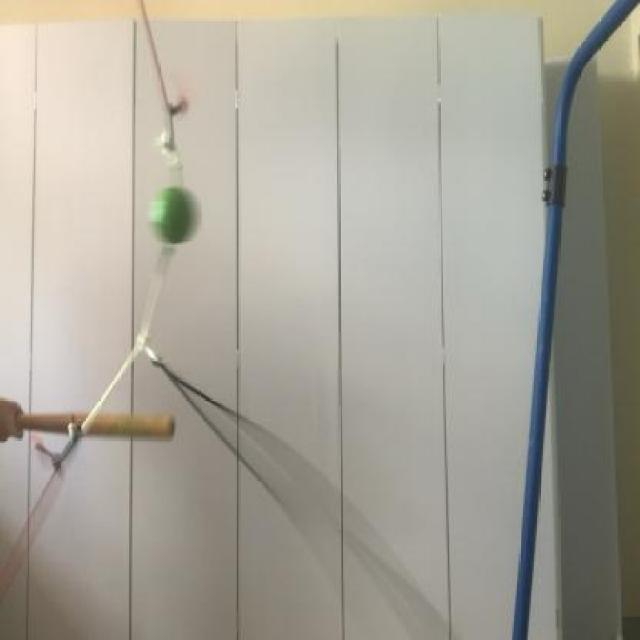baseball: (143, 174, 199, 248)
